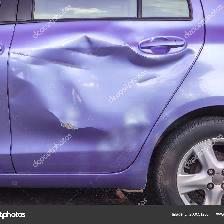door_dent: (15, 33, 188, 178)
